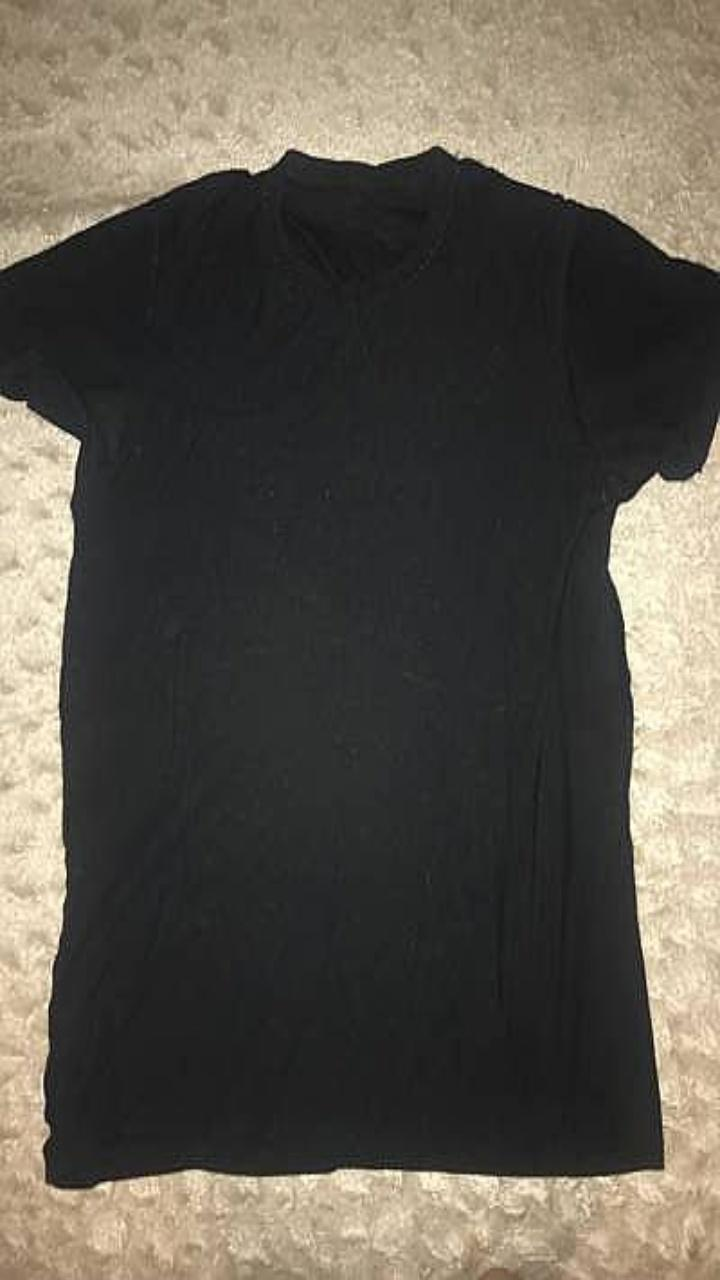T-Shirt: (0, 145, 719, 1186)
